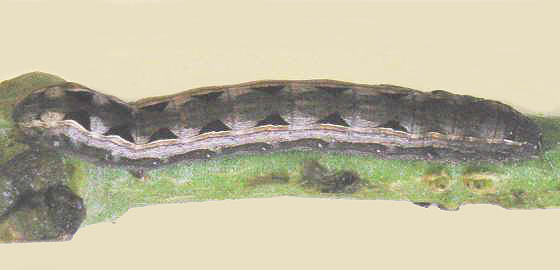Armyworm: (9, 73, 547, 186)
